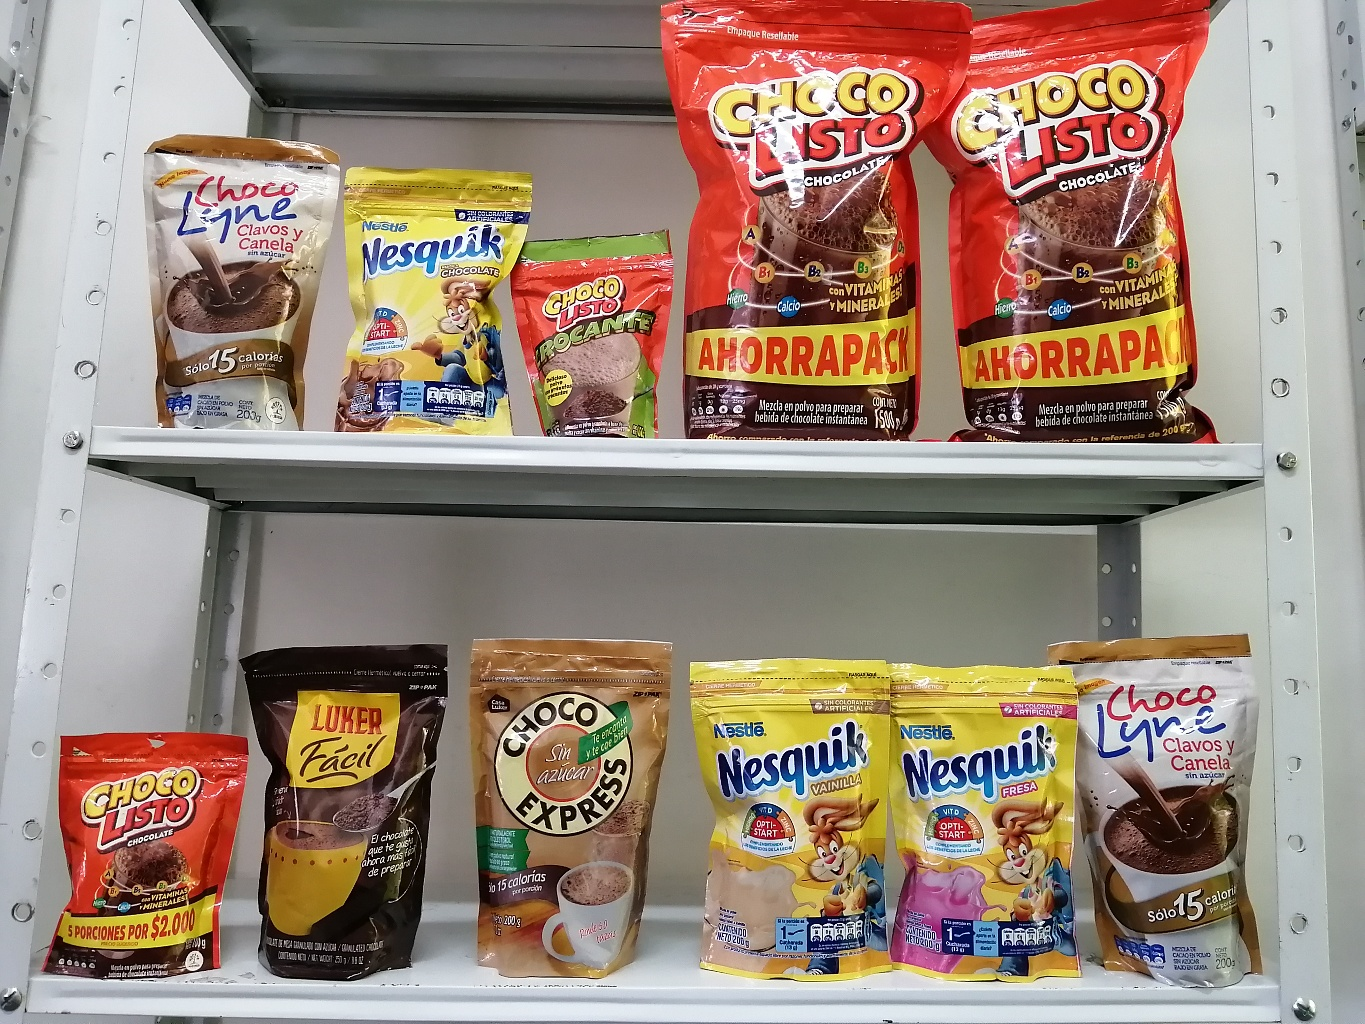COL0170102DYP10000: (508, 239, 673, 440)
COL0170103DYP1,500: (659, 0, 971, 443)
COL0170303DYP20000: (341, 167, 527, 438)
COL0170305DYP20000: (890, 659, 1082, 983)
COL0170306DYP20000: (691, 659, 896, 983)
